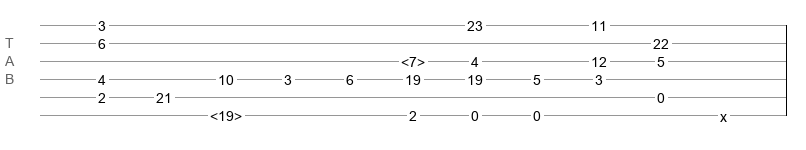0: (471, 108, 479, 118), (533, 108, 541, 118), (657, 90, 665, 100)
10: (218, 72, 234, 82)
11: (591, 18, 607, 28)
12: (591, 54, 607, 64)
19: (405, 72, 421, 82), (467, 72, 483, 82)
2: (98, 90, 106, 100), (409, 108, 417, 118)
21: (156, 90, 172, 100)
22: (653, 36, 669, 46)
23: (467, 18, 483, 28)
3: (98, 18, 106, 28), (284, 72, 292, 82), (595, 72, 603, 82)
4: (98, 72, 106, 82), (471, 54, 479, 64)
5: (533, 72, 541, 82), (657, 54, 665, 64)
6: (98, 36, 106, 46), (346, 72, 354, 82)
harmonic: (210, 108, 242, 118), (401, 54, 425, 64)
x: (720, 109, 727, 117)
